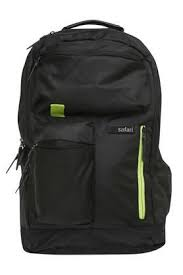backpack: (6, 19, 172, 254)
